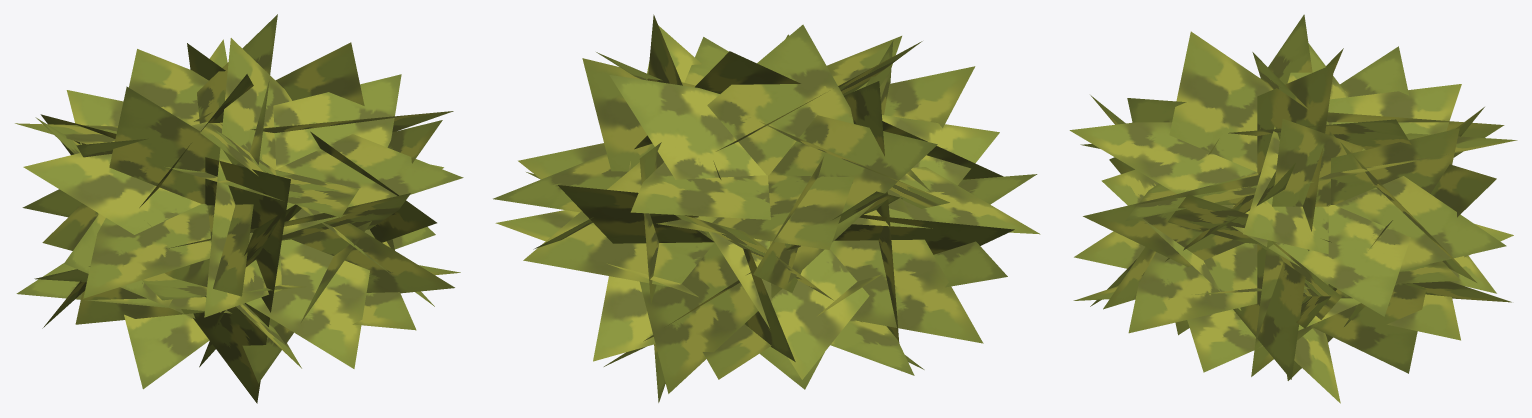
File: Moss_Fern_Blob_1.fbx
3 views of the same model, side by side, from view 1: azimuth 30°, elevation 25°; view 2: azimuth 150°, elevation 25°; view 3: azimuth 270°, elevation 25° (orthographic). The views are drawn at different scales.
Parts seen in each view (by area): view 1: Moss_Fern_Blob_1; view 2: Moss_Fern_Blob_1; view 3: Moss_Fern_Blob_1.
Part boxes in pixels (bbox=[...]): Moss_Fern_Blob_1: bbox=[15, 14, 463, 403]; Moss_Fern_Blob_1: bbox=[493, 14, 1040, 402]; Moss_Fern_Blob_1: bbox=[1069, 14, 1517, 403].
Size of the model in its own units: 70.36 by 48.57 by 64.58.
Materials: 1 (1 with a texture image).
